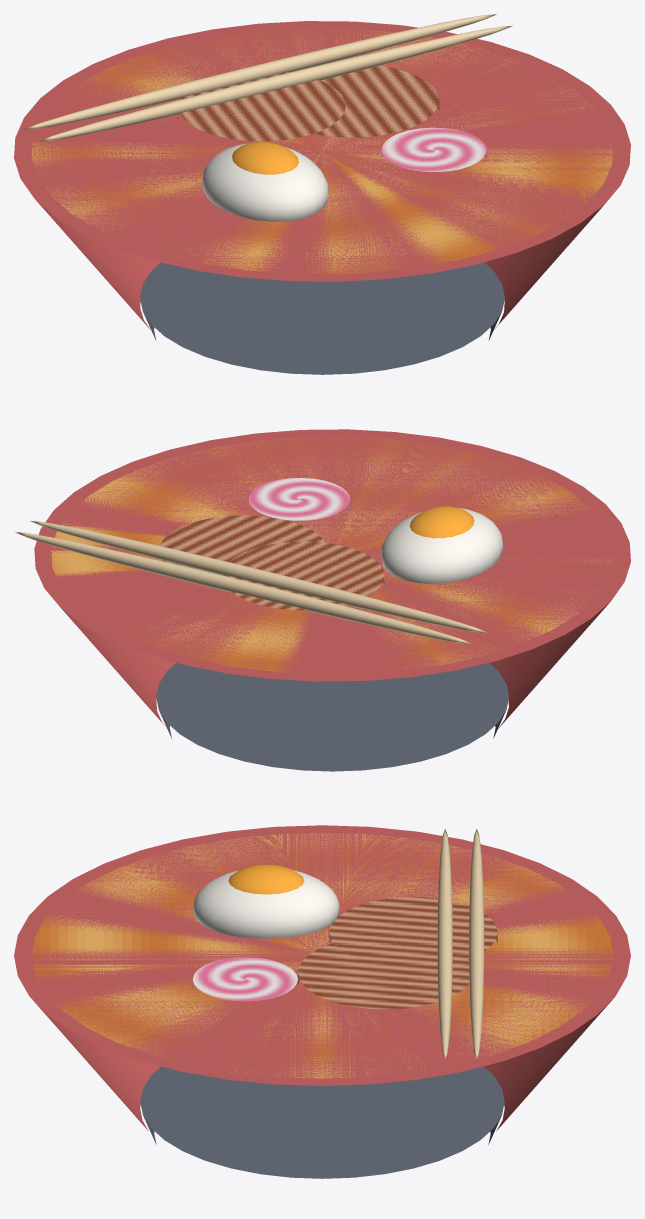
Rendered from ramen.glb.
3 renders of one model, top to bottom at view 1: azimuth 30°, elevation 25°; view 2: azimuth 150°, elevation 25°; view 3: azimuth 270°, elevation 25°, orthographic. The views are drawn at different scales.
Parts seen in each view (by area): view 1: DonburiBowl, BrothSurface, BowlFoot, ChashuSlice2, TamagoWhite, ChashuSlice1, Chopstick1, Chopstick2, NarutoSwirl, TamagoYolk; view 2: DonburiBowl, BrothSurface, BowlFoot, TamagoWhite, ChashuSlice2, Chopstick1, Chopstick2, ChashuSlice1, NarutoSwirl, TamagoYolk; view 3: DonburiBowl, BrothSurface, BowlFoot, ChashuSlice2, TamagoWhite, ChashuSlice1, NarutoSwirl, Chopstick2, Chopstick1, TamagoYolk.
Part boxes in pixels (bbox=[...]): DonburiBowl: bbox=[14, 21, 630, 332]; BrothSurface: bbox=[31, 28, 613, 274]; BowlFoot: bbox=[140, 262, 504, 374]; ChashuSlice2: bbox=[177, 72, 345, 141]; TamagoWhite: bbox=[202, 143, 328, 221]; ChashuSlice1: bbox=[313, 65, 439, 137]; Chopstick1: bbox=[24, 14, 496, 129]; Chopstick2: bbox=[40, 25, 512, 141]; NarutoSwirl: bbox=[381, 127, 486, 171]; TamagoYolk: bbox=[232, 141, 298, 174]; DonburiBowl: bbox=[34, 429, 630, 728]; BrothSurface: bbox=[51, 436, 612, 672]; BowlFoot: bbox=[156, 663, 508, 771]; TamagoWhite: bbox=[381, 508, 503, 583]; ChashuSlice2: bbox=[222, 541, 384, 610]; Chopstick1: bbox=[14, 532, 471, 643]; Chopstick2: bbox=[30, 521, 486, 632]; ChashuSlice1: bbox=[158, 515, 324, 568]; NarutoSwirl: bbox=[248, 478, 350, 520]; TamagoYolk: bbox=[409, 506, 474, 538]; DonburiBowl: bbox=[14, 825, 630, 1131]; BrothSurface: bbox=[32, 833, 613, 1078]; BowlFoot: bbox=[140, 1066, 504, 1178]; ChashuSlice2: bbox=[329, 896, 497, 967]; TamagoWhite: bbox=[193, 870, 339, 938]; ChashuSlice1: bbox=[298, 943, 469, 1009]; NarutoSwirl: bbox=[192, 957, 297, 1001]; Chopstick2: bbox=[437, 829, 452, 1058]; Chopstick1: bbox=[469, 829, 484, 1058]; TamagoYolk: bbox=[228, 864, 304, 894].
Bounding box in the file's own units: 1.76 × 0.7 × 1.76.
Materials: 8 (3 with a texture image).
